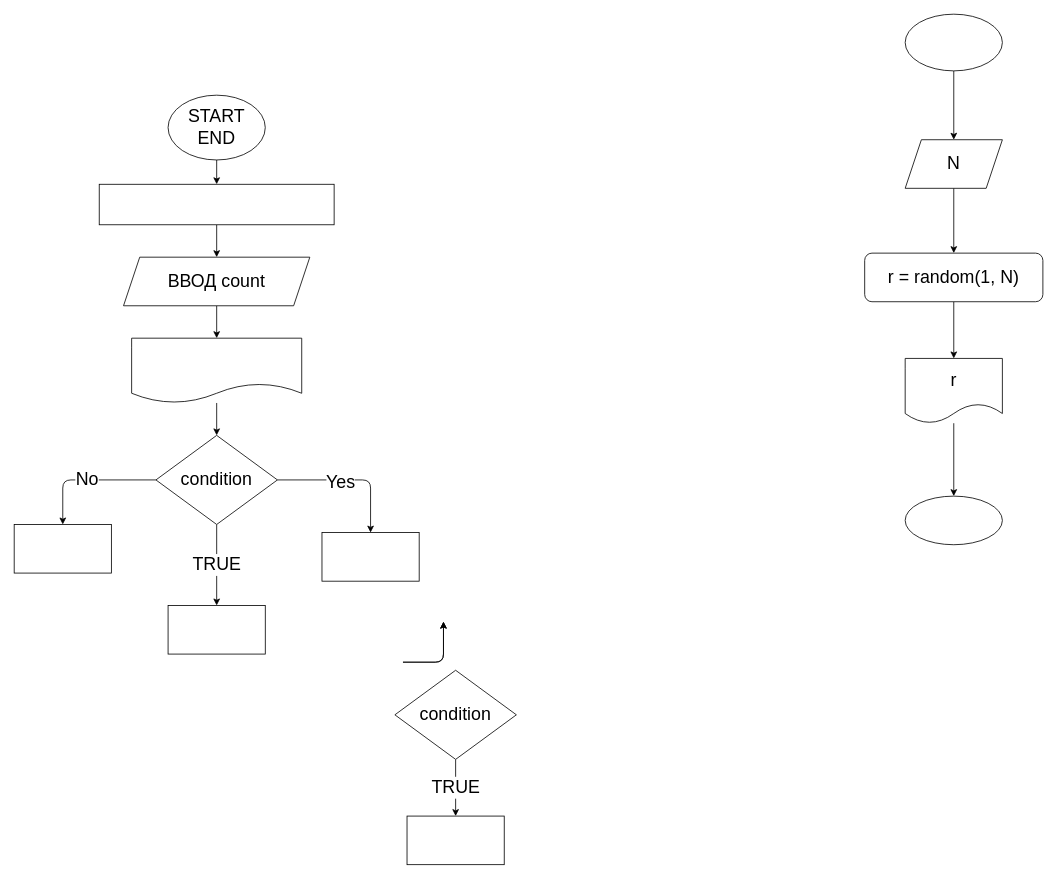
This 1057x879 diagram has some shape labels left out. Here are the shapes that lost their labels. From the top down, the centre of each, then its label:
At (x=953, y=42): "START".
At (x=216, y=204): "count = 0 res = 1 *Sqrt(2)".
At (x=216, y=370): "ВЫВОД res".
At (x=953, y=520): "END".
